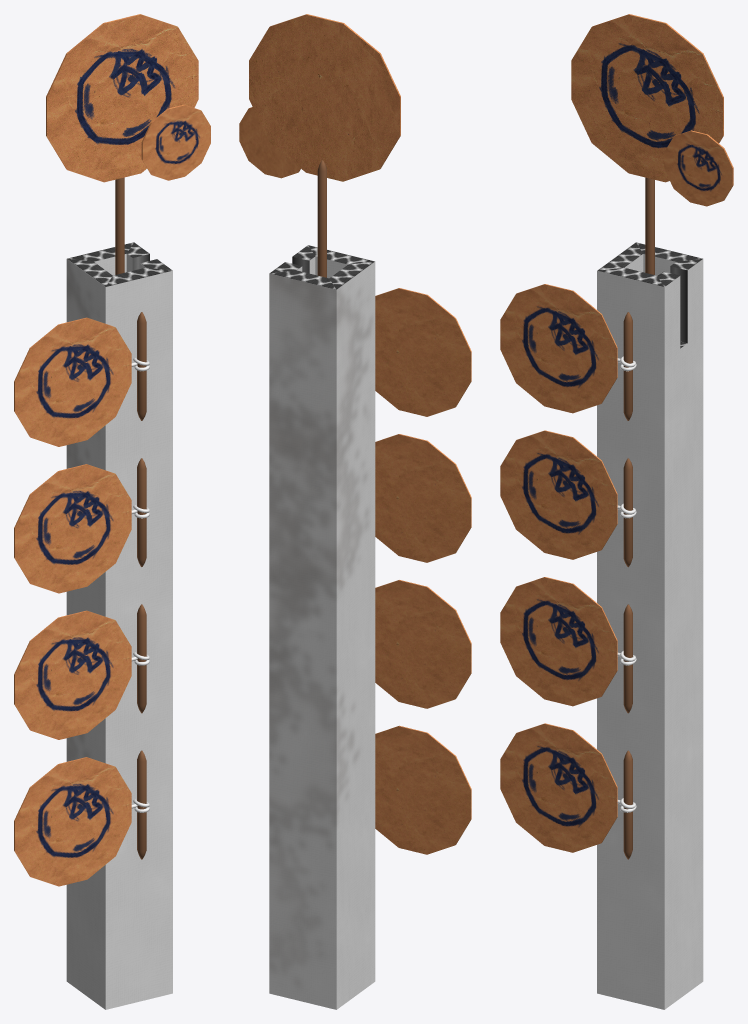
Rendered from Pfahl.fbx.
3 views of the same model, side by side, from view 1: azimuth 30°, elevation 25°; view 2: azimuth 150°, elevation 25°; view 3: azimuth 330°, elevation 25° (orthographic).
Visible parts, largest first — view 1: Pfahl, PutIn_Material, Result_Material, Result_Material.001, PutIn_Stock, Rope; view 2: Pfahl, PutIn_Material, Result_Material, Result_Material.001; view 3: Pfahl, PutIn_Material, Result_Material, Result_Material.001, PutIn_Stock, Rope.
Part boxes in pixels (x1,y1,x2,y2): Pfahl: (66, 242, 172, 1009); PutIn_Material: (14, 317, 131, 886); Result_Material: (46, 14, 198, 274); Result_Material.001: (141, 104, 210, 180); PutIn_Stock: (137, 312, 146, 859); Rope: (131, 358, 149, 812); Pfahl: (269, 245, 375, 1009); PutIn_Material: (375, 288, 471, 854); Result_Material: (249, 14, 400, 277); Result_Material.001: (239, 107, 300, 178); Pfahl: (597, 242, 703, 1009); PutIn_Material: (500, 284, 617, 852); Result_Material: (571, 14, 723, 274); Result_Material.001: (664, 130, 733, 206); PutIn_Stock: (623, 312, 632, 859); Rope: (617, 356, 636, 812).
Bounding box in the file's own units: 124 × 538 × 45.95.
